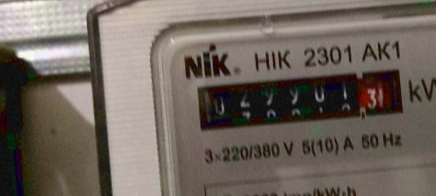0: (310, 80, 328, 106), (210, 94, 227, 118)
1: (337, 78, 351, 103)
2: (236, 87, 253, 110)
3: (363, 87, 380, 111)
9: (287, 84, 301, 108), (262, 85, 275, 107)
screen: (188, 61, 413, 142)
